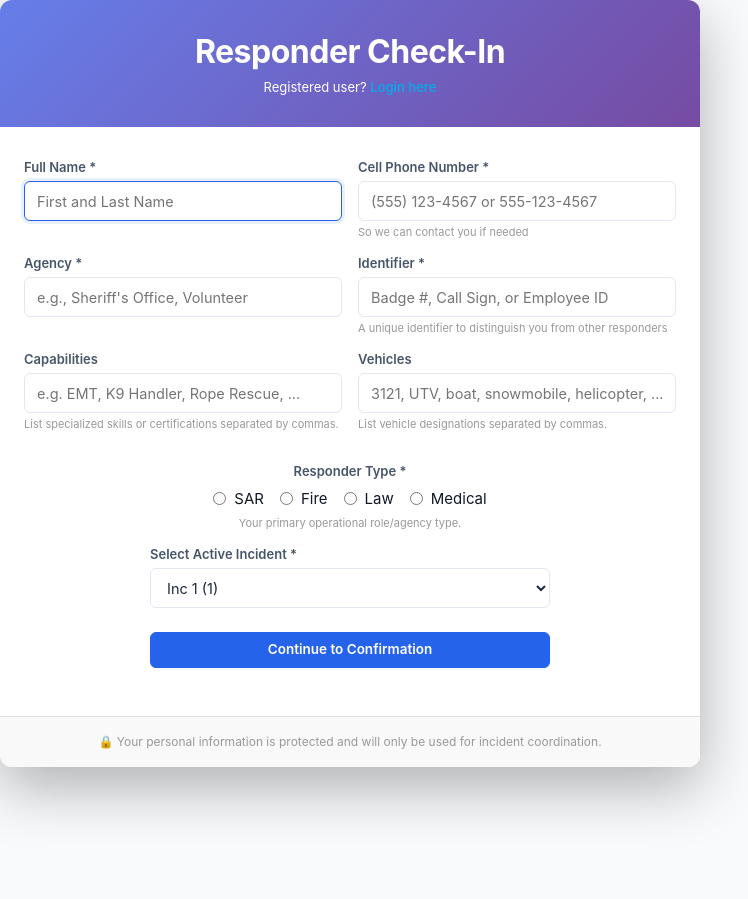
ResponderCheckin confirmation screen › shows an error if no responder type is selected when submitting
Note: Fill out preceding required fields to reach responder_type validation
Type "Steve" into the field labelled "Full Name *".
click(183, 201); type("Steve")  # box top-left (24, 181), bottom-right (342, 221)
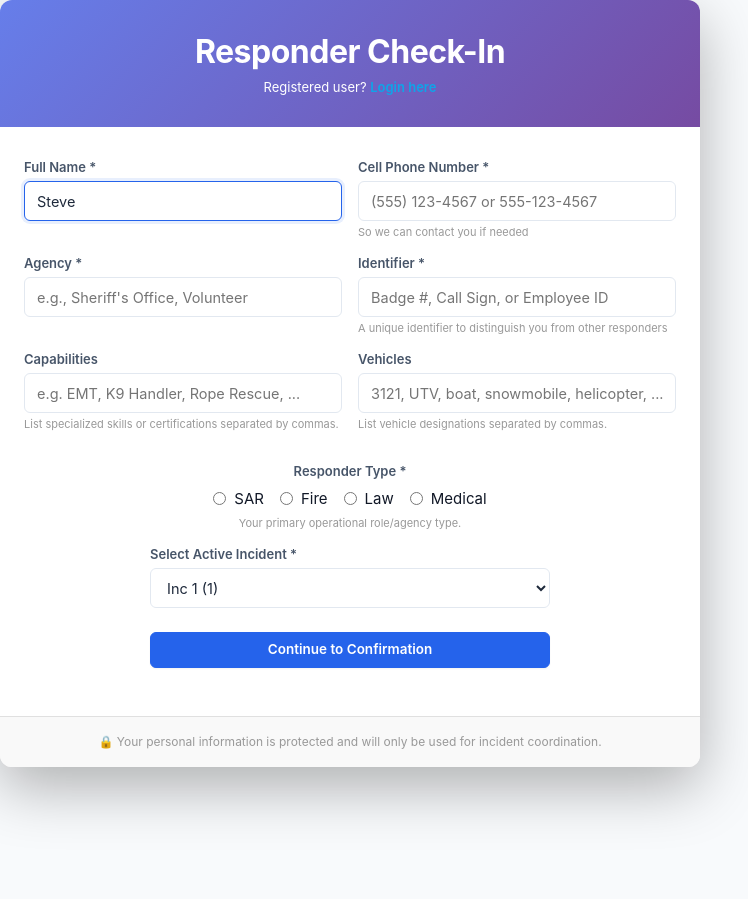
Type "SAR" into the field labelled "Agency *".
click(183, 297); type("SAR")  # box top-left (24, 277), bottom-right (342, 317)
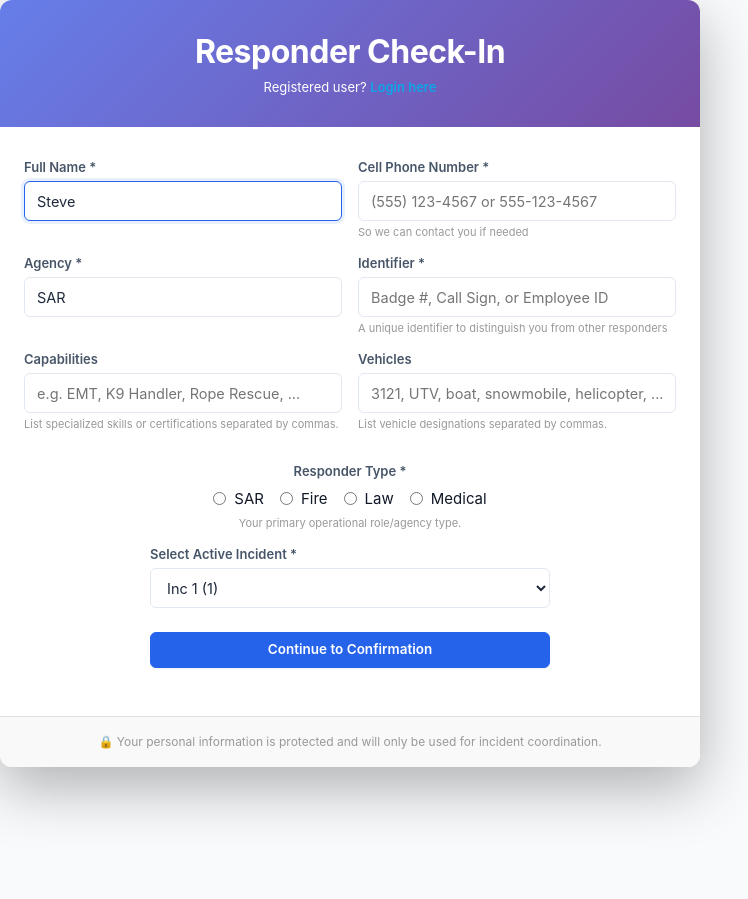
Type "ID1" into the field labelled "Identifier *".
click(517, 297); type("ID1")  # box top-left (358, 277), bottom-right (676, 317)
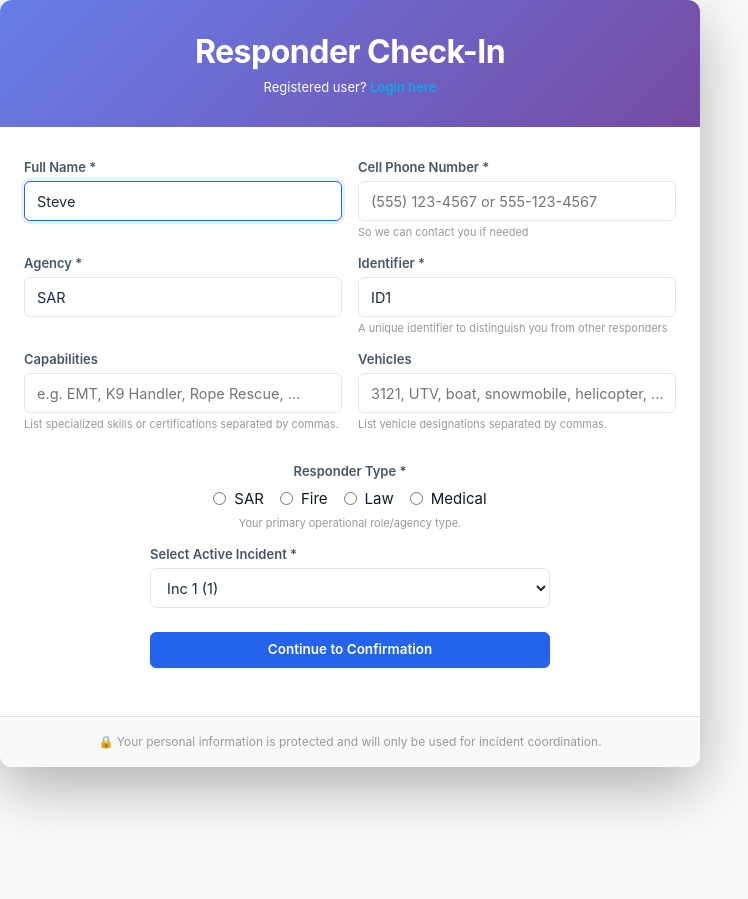
Type "1234567890" into the field labelled "Cell Phone Number *".
click(517, 201); type("1234567890")  # box top-left (358, 181), bottom-right (676, 221)
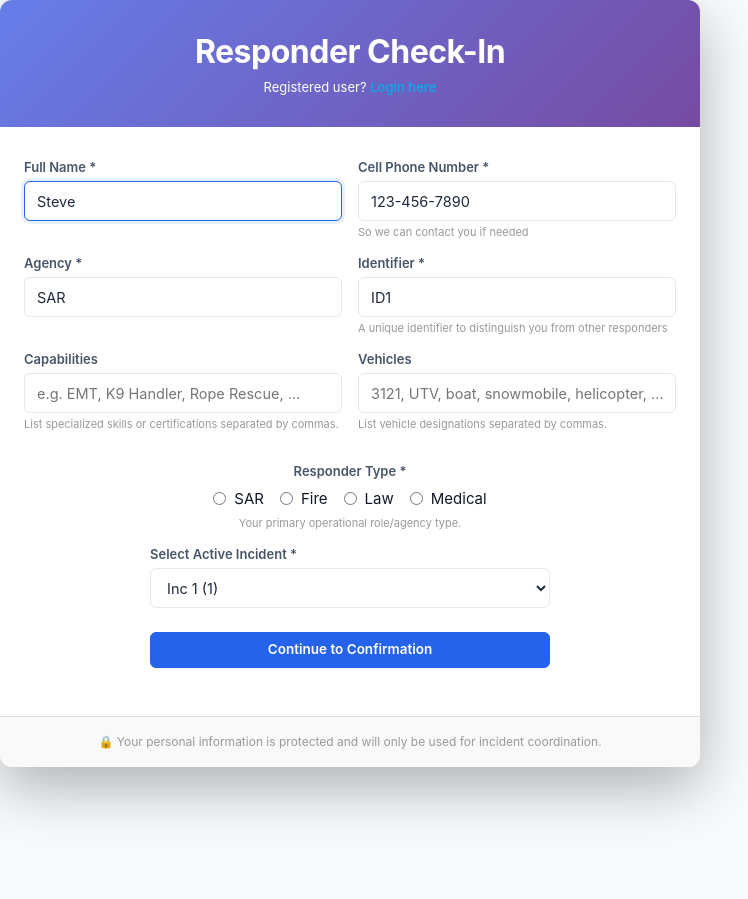
Click the button "Continue to Confirmation".
click(350, 650)  # box top-left (150, 632), bottom-right (550, 668)
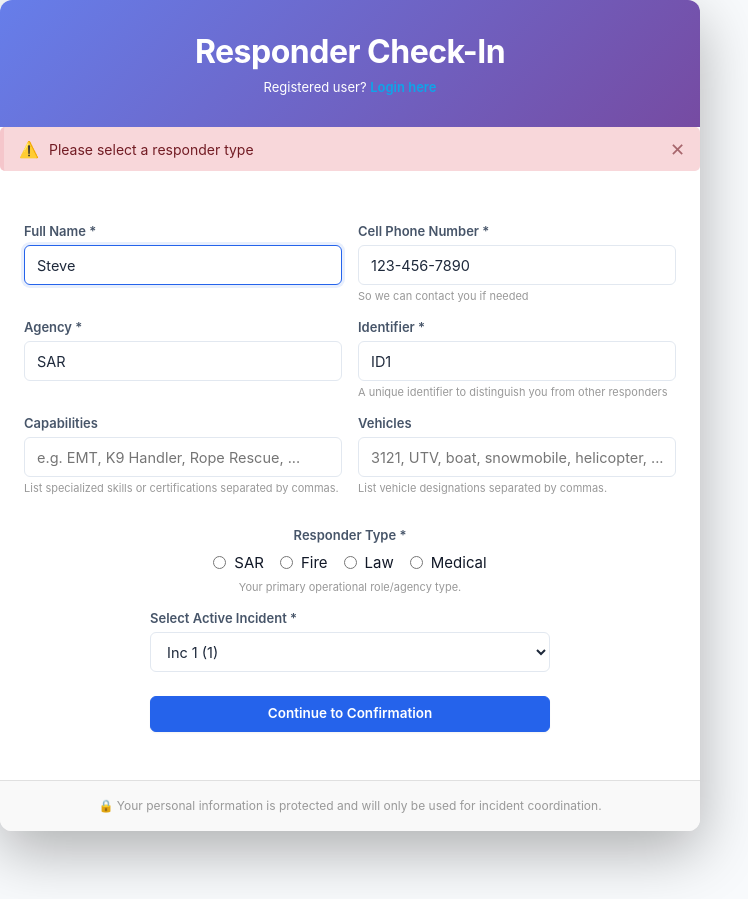
Expected: the text "Please select a responder type" is shown, top-left (49, 140), bottom-right (254, 158)
